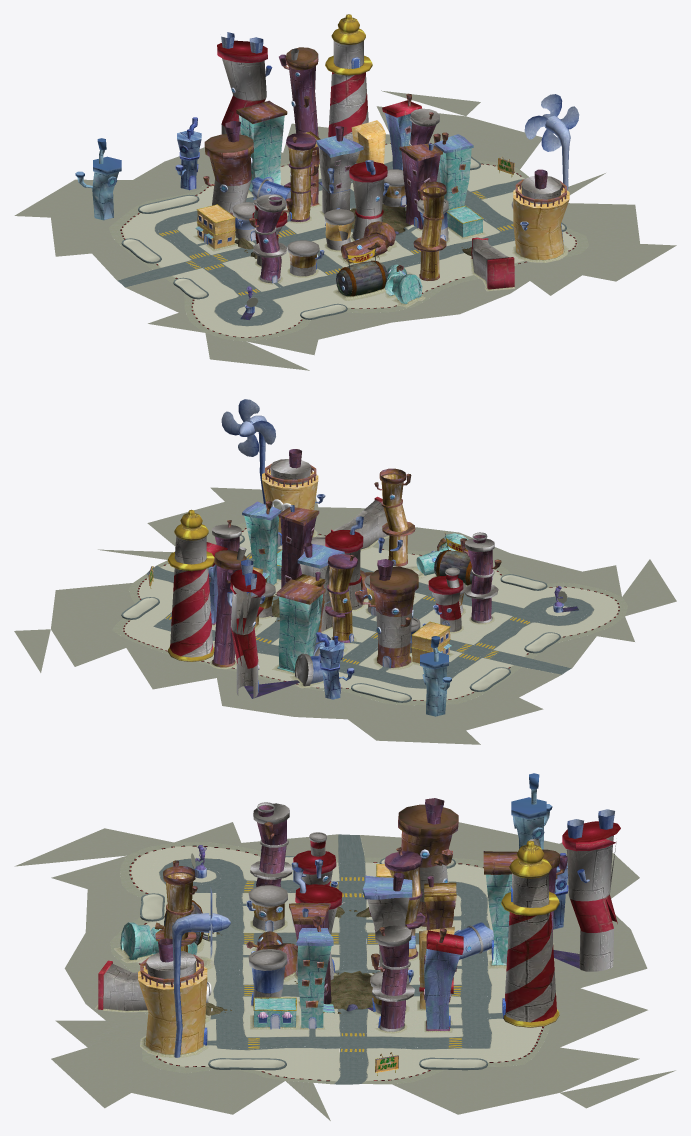
Rendered from downtown.glb.
3 views of the same model, one above another, from view 1: azimuth 30°, elevation 25°; view 2: azimuth 150°, elevation 25°; view 3: azimuth 270°, elevation 25° (orthographic). The views are drawn at different scales.
Visible parts, largest first — view 1: downtown; view 2: downtown; view 3: downtown.
Part boxes in pixels (x1,y1,x2,y2): downtown: (14, 14, 676, 370); downtown: (14, 399, 676, 744); downtown: (14, 773, 675, 1120).
Bounding box in the file's own units: 128 × 39.28 × 119.
35 materials, 34 textured.
